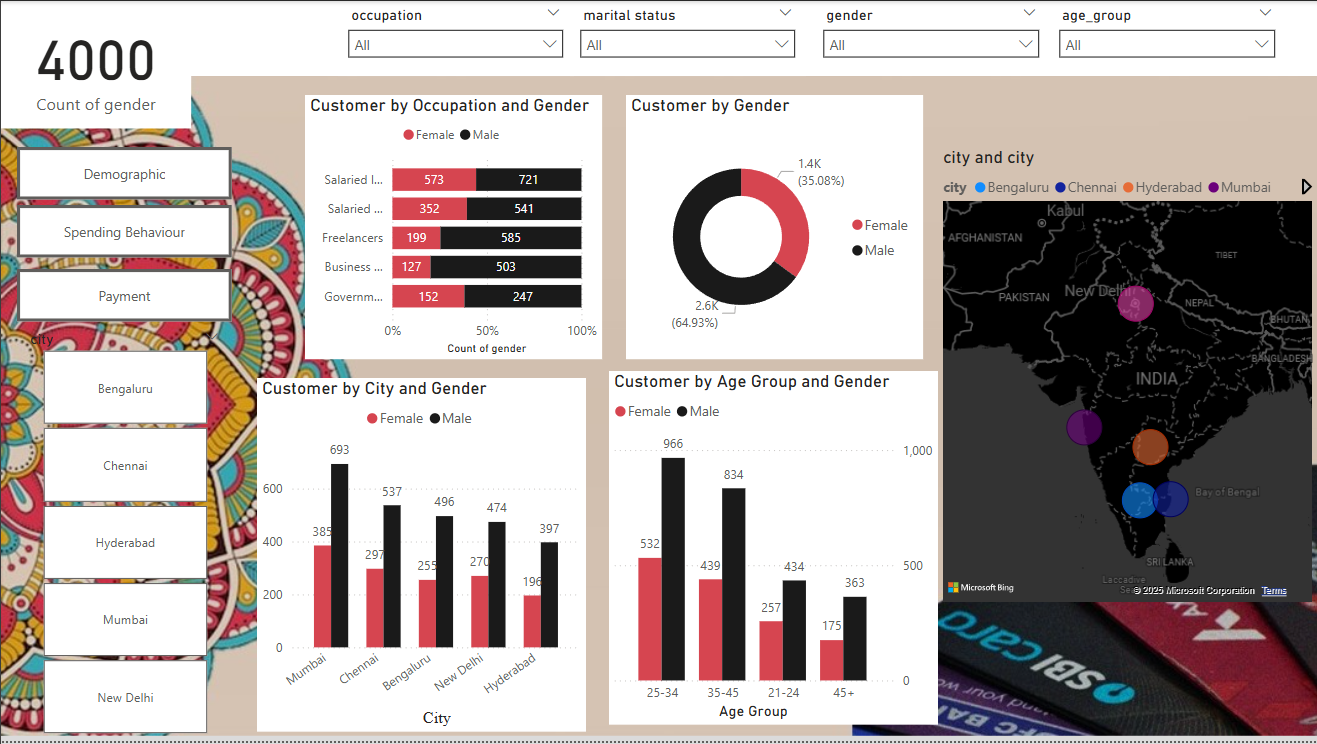

Layout of this report page (visuals, bound fields, positions):
{"tool":"powerbi","page":{"name":"Demographic","canvas":[1280,720],"ordinal":0},"visuals":[{"type":"shape","box":[0,0,1280,72.9],"z":0},{"type":"slicer","fields":{"Values":["dim_customers.city"]},"box":[15.6,315.6,208.9,404.4],"z":1000},{"type":"slicer","fields":{"Values":["dim_customers.age_group"]},"box":[1019.3,0,229.5,69.1],"z":2000},{"type":"slicer","fields":{"Values":["dim_customers.occupation"]},"box":[327.8,0,228.6,72.9],"z":3000},{"type":"actionButton","box":[15.6,142.2,208.9,51.1],"z":4000},{"type":"slicer","fields":{"Values":["dim_customers.marital status"]},"box":[553.4,0,228.6,72.9],"z":5000},{"type":"slicer","fields":{"Values":["dim_customers.gender"]},"box":[789.8,0,229.5,69.1],"z":6000},{"type":"actionButton","box":[15.6,198.9,208.9,51.1],"z":7000},{"type":"actionButton","box":[15.6,261.1,208.9,51.1],"z":8000},{"type":"card","fields":{"Values":["CountNonNull(dim_customers.gender)"]},"box":[0,0,184.8,123.5],"z":9000},{"type":"clusteredColumnChart","title":"Customer by Age Group and Gender","fields":{"Category":["dim_customers.age_group"],"Y":["CountNonNull(dim_customers.gender)"],"Series":["dim_customers.gender"]},"box":[591.4,359.9,320,344.3],"z":10000},{"type":"map","fields":{"Category":["dim_customers.city"],"Series":["dim_customers.city"]},"box":[911.4,142,368.6,448.4],"z":11000},{"type":"clusteredColumnChart","title":"Customer by City and Gender","fields":{"Category":["dim_customers.city"],"Y":["CountNonNull(dim_customers.gender)"],"Series":["dim_customers.gender"]},"box":[249,366.7,320,344.3],"z":12000},{"type":"donutChart","title":"Customer by Gender","fields":{"Y":["CountNonNull(dim_customers.gender)"],"Series":["dim_customers.gender"]},"box":[607.9,91.4,288.9,256.8],"z":13000},{"type":"hundredPercentStackedBarChart","title":"Customer by Occupation and Gender","fields":{"Category":["dim_customers.occupation"],"Y":["CountNonNull(dim_customers.gender)"],"Series":["dim_customers.gender"]},"box":[295.7,91.4,288.9,256.8],"z":14000}]}

Visuals, with their boxes in screenshot pixels (x1, y1, x2, y2), scaled from the page's 1280x720 canvas onto the 1317x744 screenshot:
shape: x1=0, y1=0, x2=1316, y2=75
slicer - dim_customers.city: x1=16, y1=326, x2=231, y2=743
slicer - dim_customers.age_group: x1=1049, y1=0, x2=1285, y2=71
slicer - dim_customers.occupation: x1=337, y1=0, x2=572, y2=75
actionButton: x1=16, y1=147, x2=231, y2=200
slicer - dim_customers.marital status: x1=569, y1=0, x2=805, y2=75
slicer - dim_customers.gender: x1=813, y1=0, x2=1049, y2=71
actionButton: x1=16, y1=206, x2=231, y2=258
actionButton: x1=16, y1=270, x2=231, y2=323
card - CountNonNull(dim_customers.gender): x1=0, y1=0, x2=190, y2=128
"Customer by Age Group and Gender" clusteredColumnChart: x1=608, y1=372, x2=938, y2=728
map - dim_customers.city x dim_customers.city: x1=938, y1=147, x2=1316, y2=610
"Customer by City and Gender" clusteredColumnChart: x1=256, y1=379, x2=585, y2=735
"Customer by Gender" donutChart: x1=625, y1=94, x2=923, y2=360
"Customer by Occupation and Gender" hundredPercentStackedBarChart: x1=304, y1=94, x2=601, y2=360
